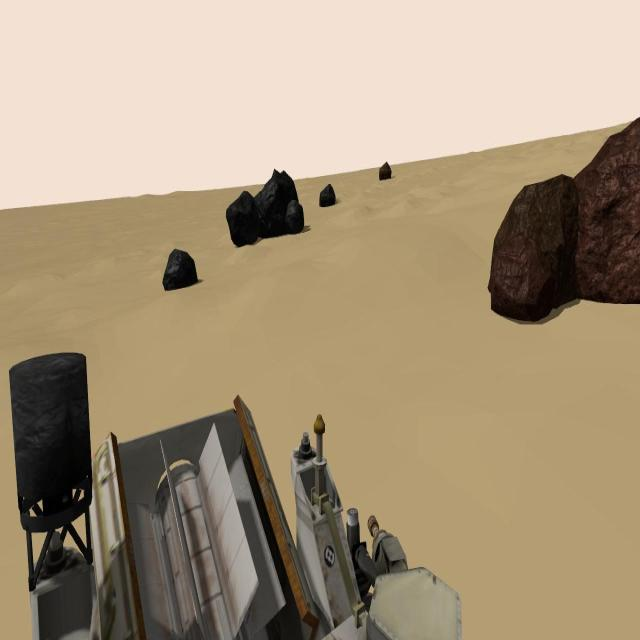rock: (574, 115, 640, 304), (487, 172, 577, 310), (492, 236, 552, 322), (256, 168, 299, 239), (226, 190, 258, 248), (163, 249, 198, 291), (286, 200, 304, 234), (318, 184, 336, 207), (380, 161, 391, 181)
